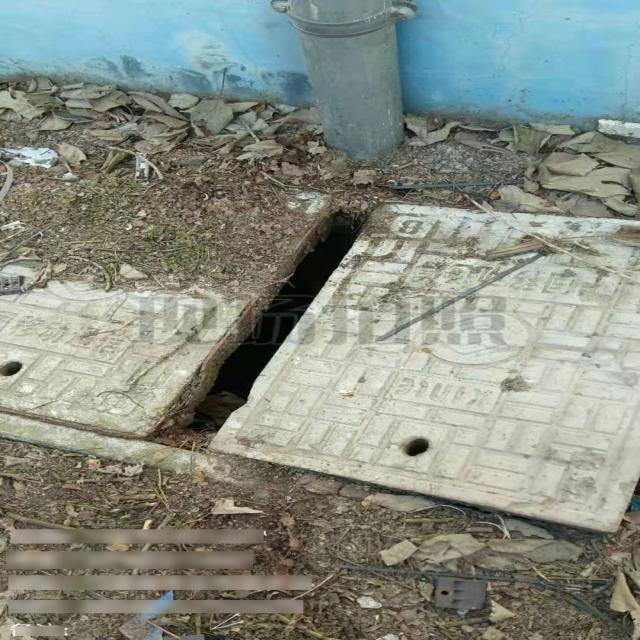Faulty: (2, 185, 640, 534)
